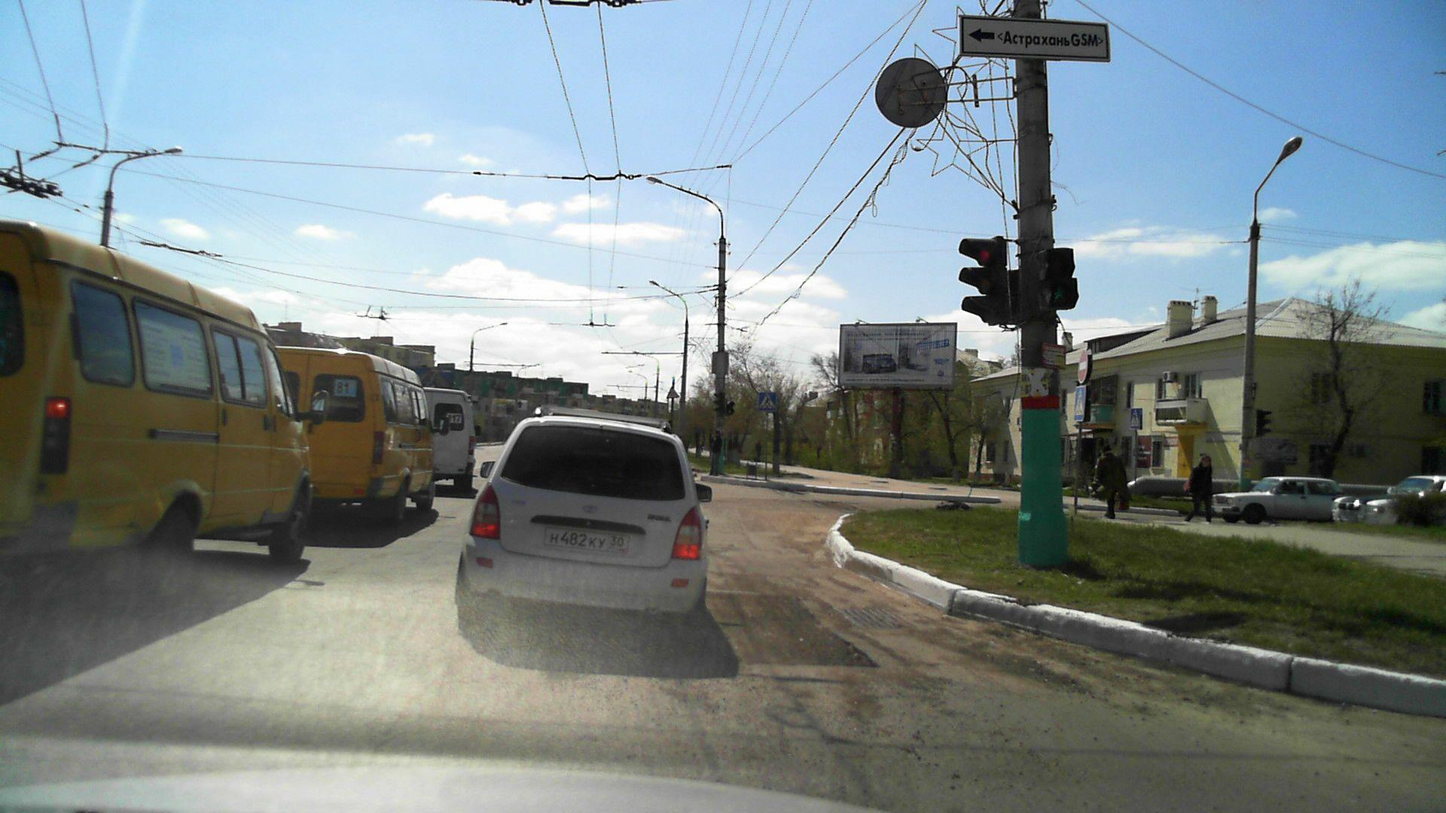traffic light: (959, 232, 1012, 326), (1034, 244, 1083, 311), (1257, 408, 1274, 437), (758, 392, 778, 412)
